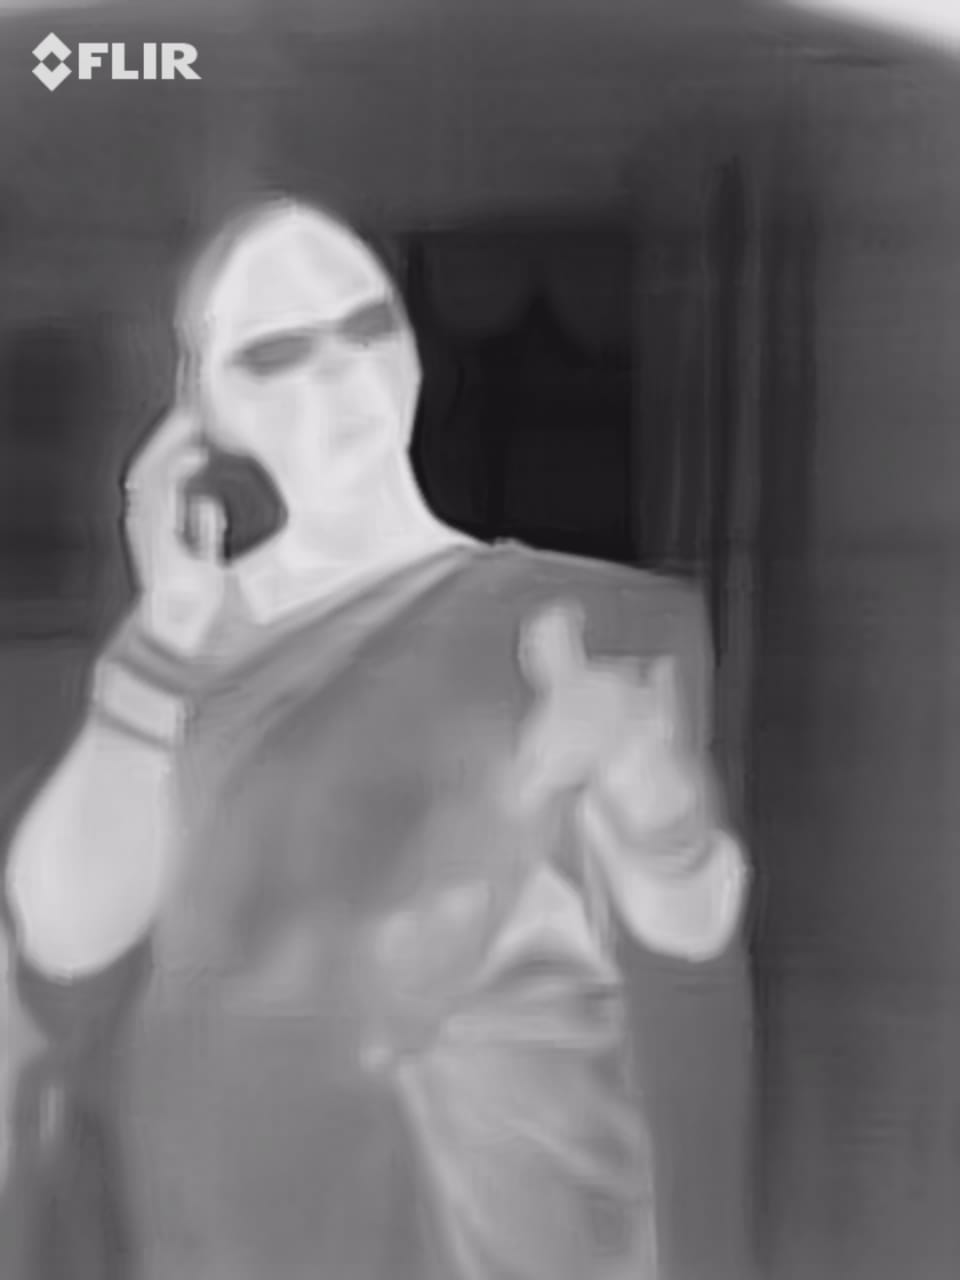head: (163, 192, 442, 513)
